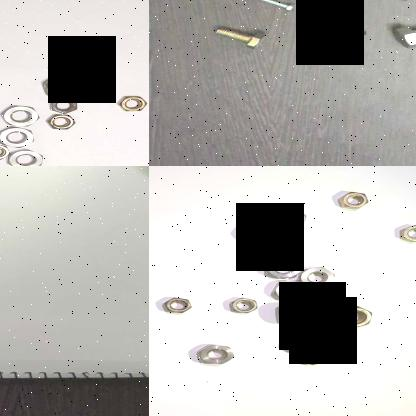Bolts: (212, 25, 268, 49), (338, 12, 368, 38), (394, 18, 416, 48), (254, 0, 294, 10)
NUTS: (38, 70, 89, 100), (256, 254, 304, 280), (333, 304, 375, 330), (268, 206, 310, 232), (270, 276, 310, 302), (194, 343, 236, 367), (0, 103, 40, 128), (300, 264, 338, 288), (0, 124, 35, 150), (4, 146, 49, 166), (40, 58, 82, 78), (43, 110, 83, 130), (298, 345, 334, 367), (274, 298, 302, 326), (44, 93, 82, 113), (116, 92, 148, 114), (159, 295, 194, 315), (223, 294, 261, 312), (324, 338, 358, 358), (248, 238, 282, 258), (234, 224, 268, 242), (337, 189, 370, 207), (282, 336, 314, 354), (398, 219, 416, 245), (0, 141, 12, 163)
